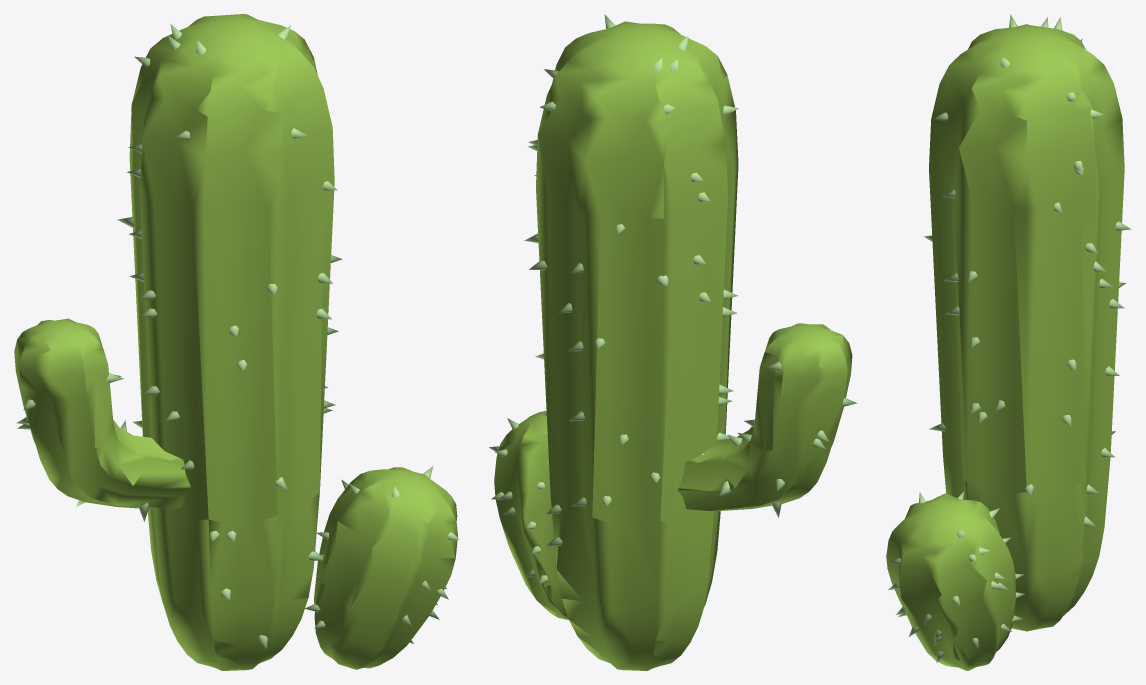
File: Cactus_02_LOD1.fbx
The picture shows the model from 3 angles, left to right: view 1: azimuth 30°, elevation 25°; view 2: azimuth 150°, elevation 25°; view 3: azimuth 270°, elevation 25°; orthographic projection. The views are drawn at different scales.
Parts seen in each view (by area): view 1: Cactus_02_LOD1_Mesh; view 2: Cactus_02_LOD1_Mesh; view 3: Cactus_02_LOD1_Mesh.
Boxes of the visible parts, x1=… form: Cactus_02_LOD1_Mesh: x1=14, y1=14, x2=459, y2=670; Cactus_02_LOD1_Mesh: x1=489, y1=14, x2=857, y2=670; Cactus_02_LOD1_Mesh: x1=886, y1=14, x2=1130, y2=670.
Size of the model in its own units: 2.31 by 3.57 by 1.35.
